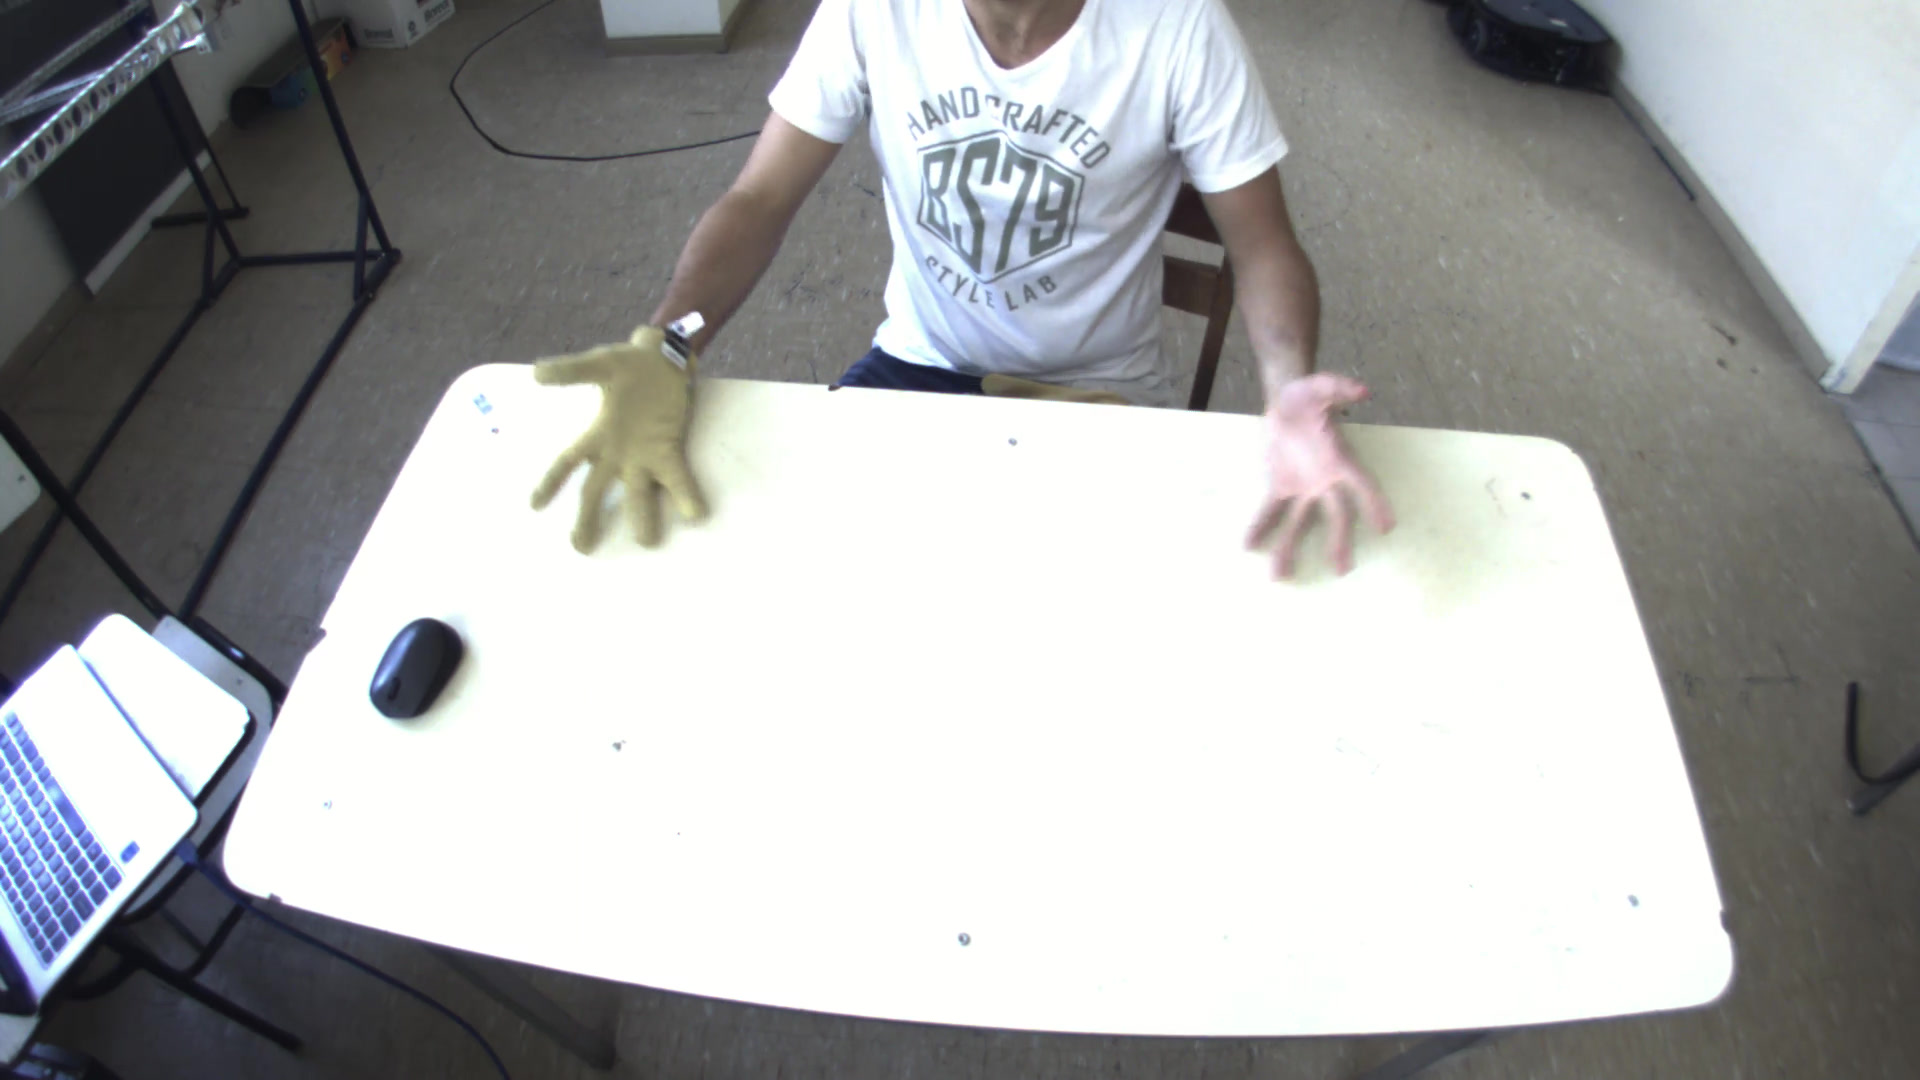hand: (514, 311, 717, 563), (1244, 355, 1414, 591)
